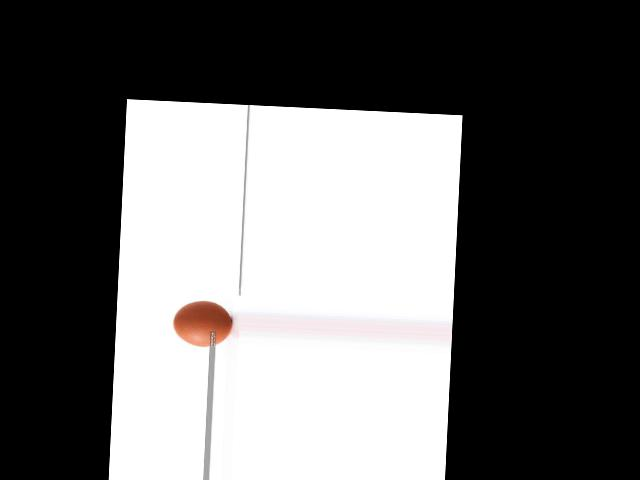egg: (172, 300, 231, 348)
